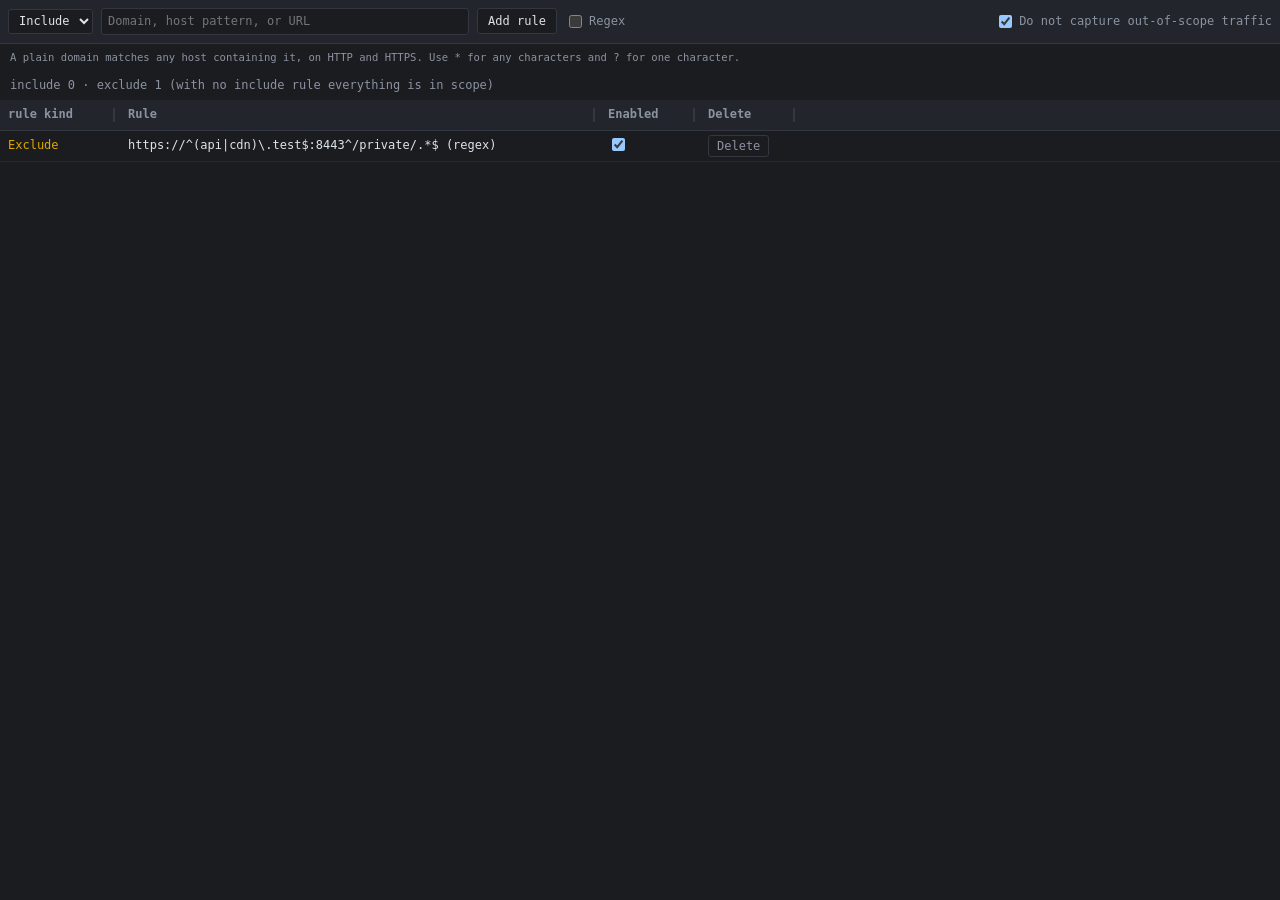
Test: ScopeEditor editing › keeps a rejected draft for correction and retries without changing other fields
Double-click the cell "https://^(api|cdn)\\.test$:8443^/private/.*$ (regex)" at (360, 146), box [120,130,600,162]
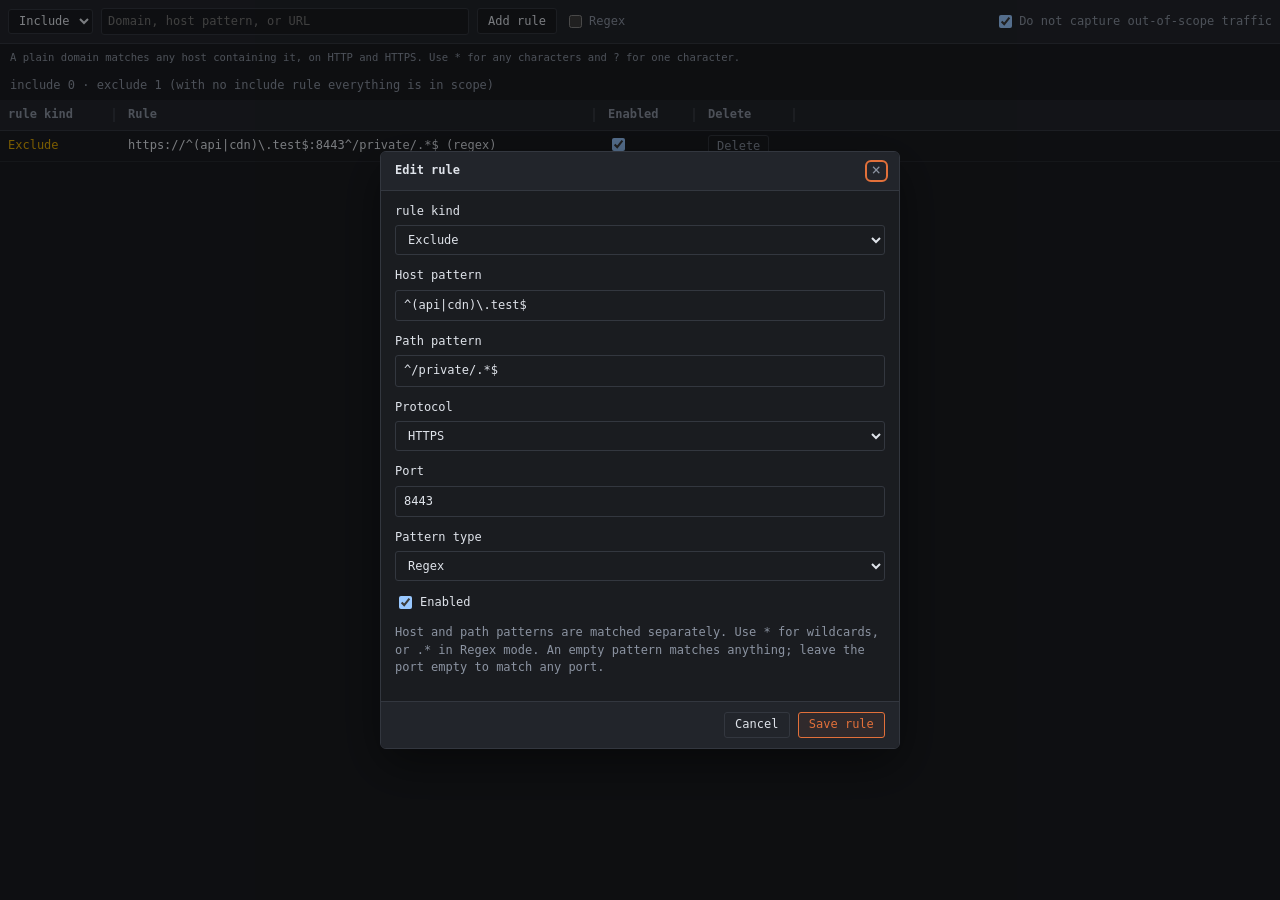
Replace the text in the field labelled "Host pattern" with "(" at (640, 305), box [395,290,885,321]
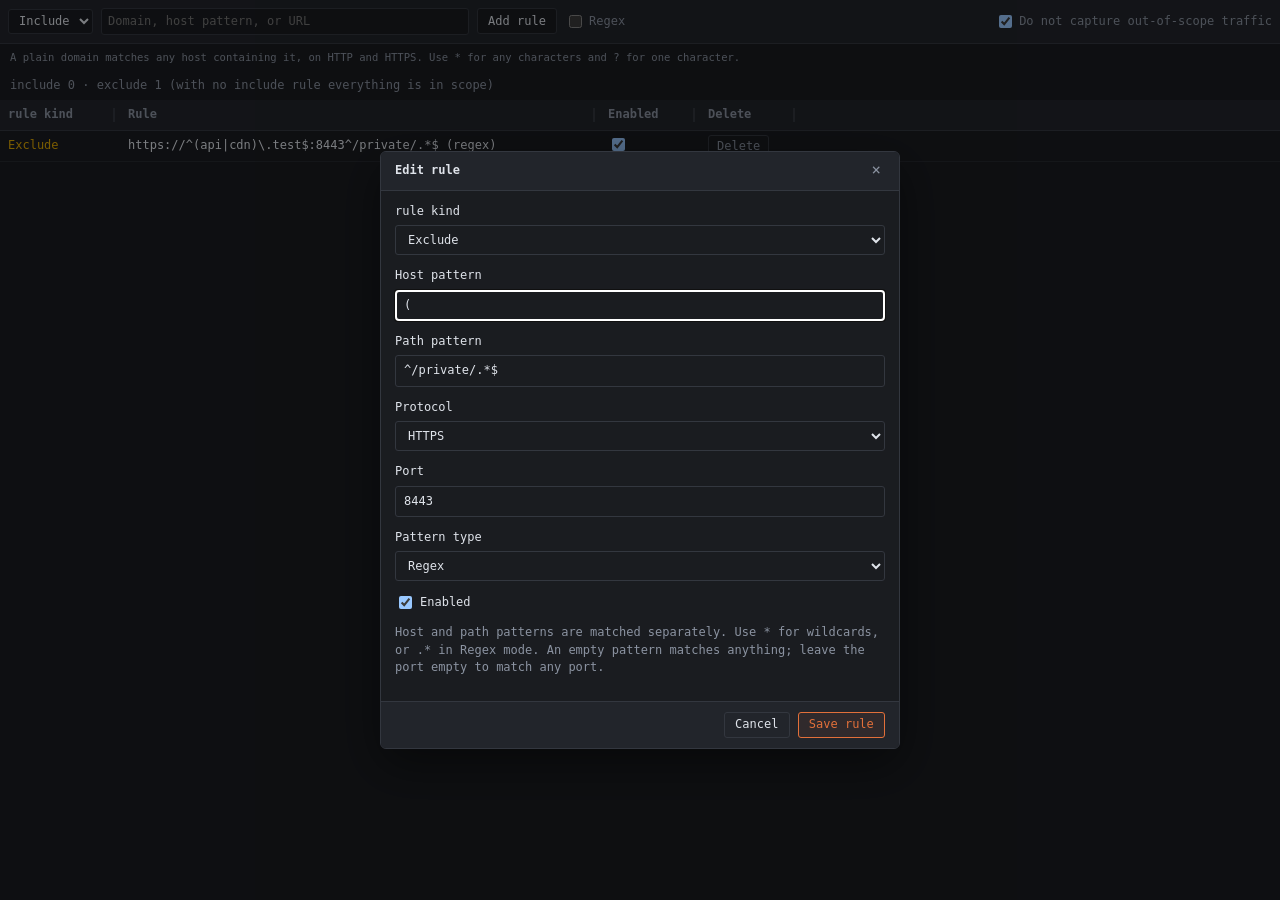
Click the button "Save rule" at (841, 724), box [798,712,885,738]
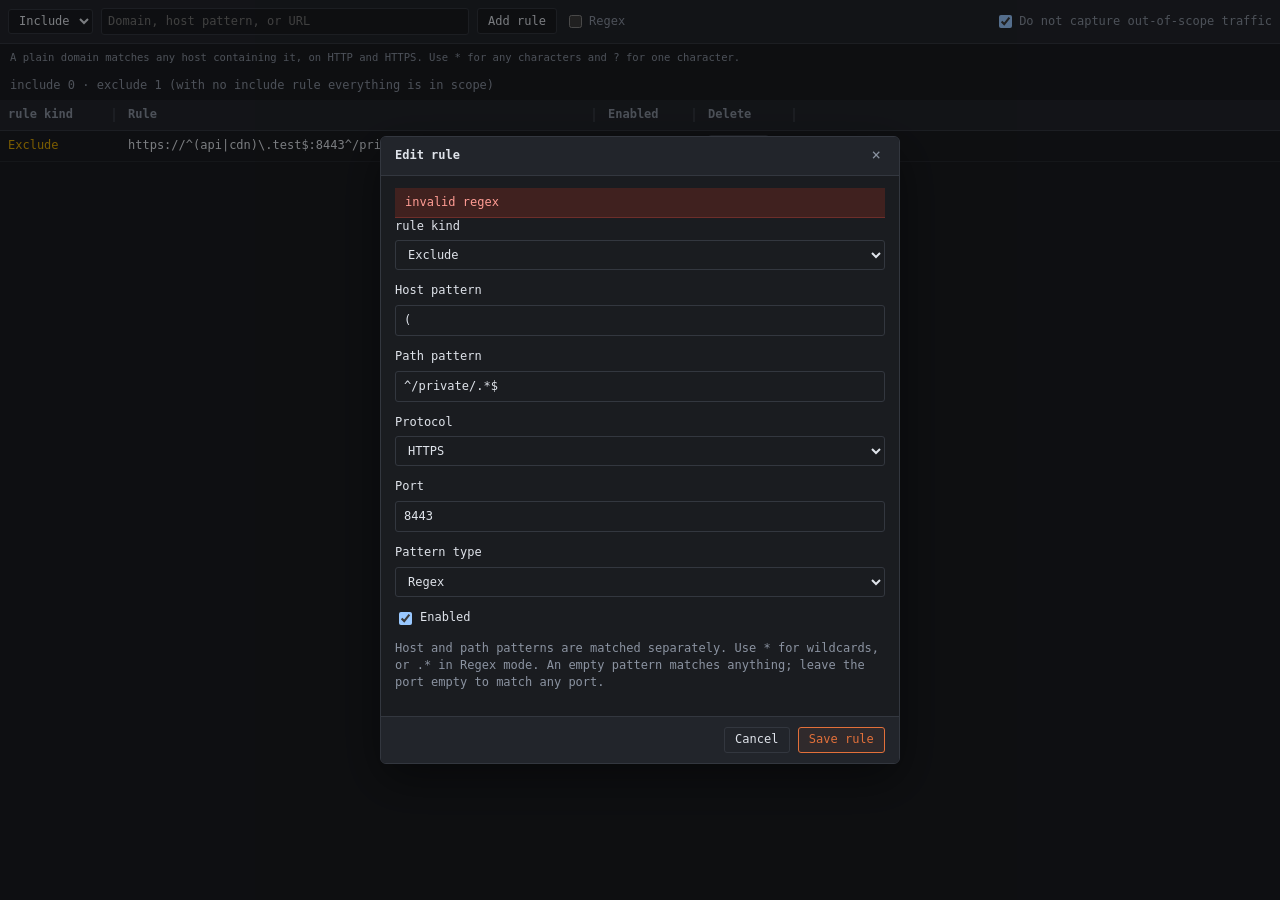
Expected: the message reads "invalid regex", [405,195,499,209]
Replace the text in the field labelled "Host pattern" with "^updated\\.test$" at (640, 320), box [395,305,885,336]
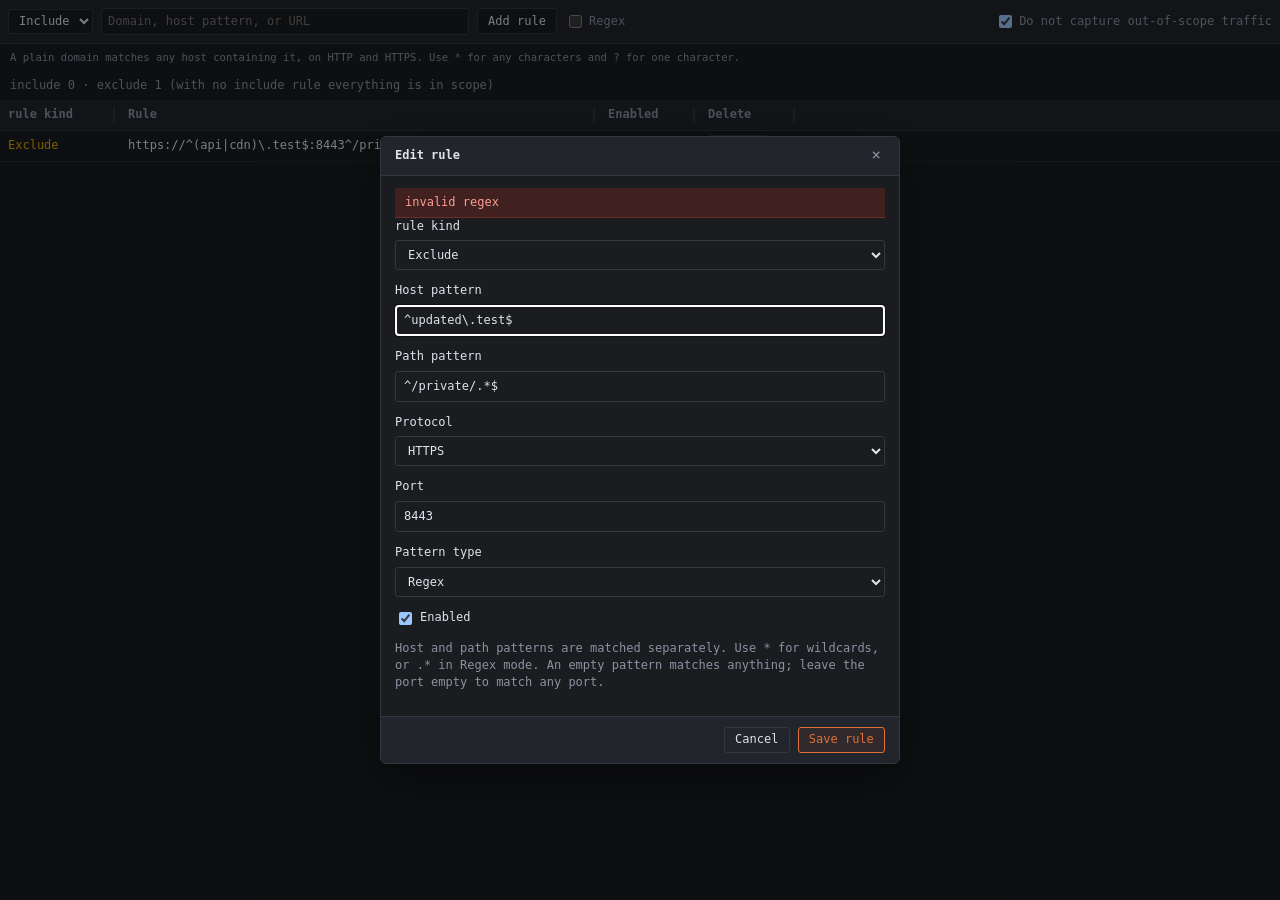
Click the button "Save rule" at (841, 740), box [798,727,885,753]
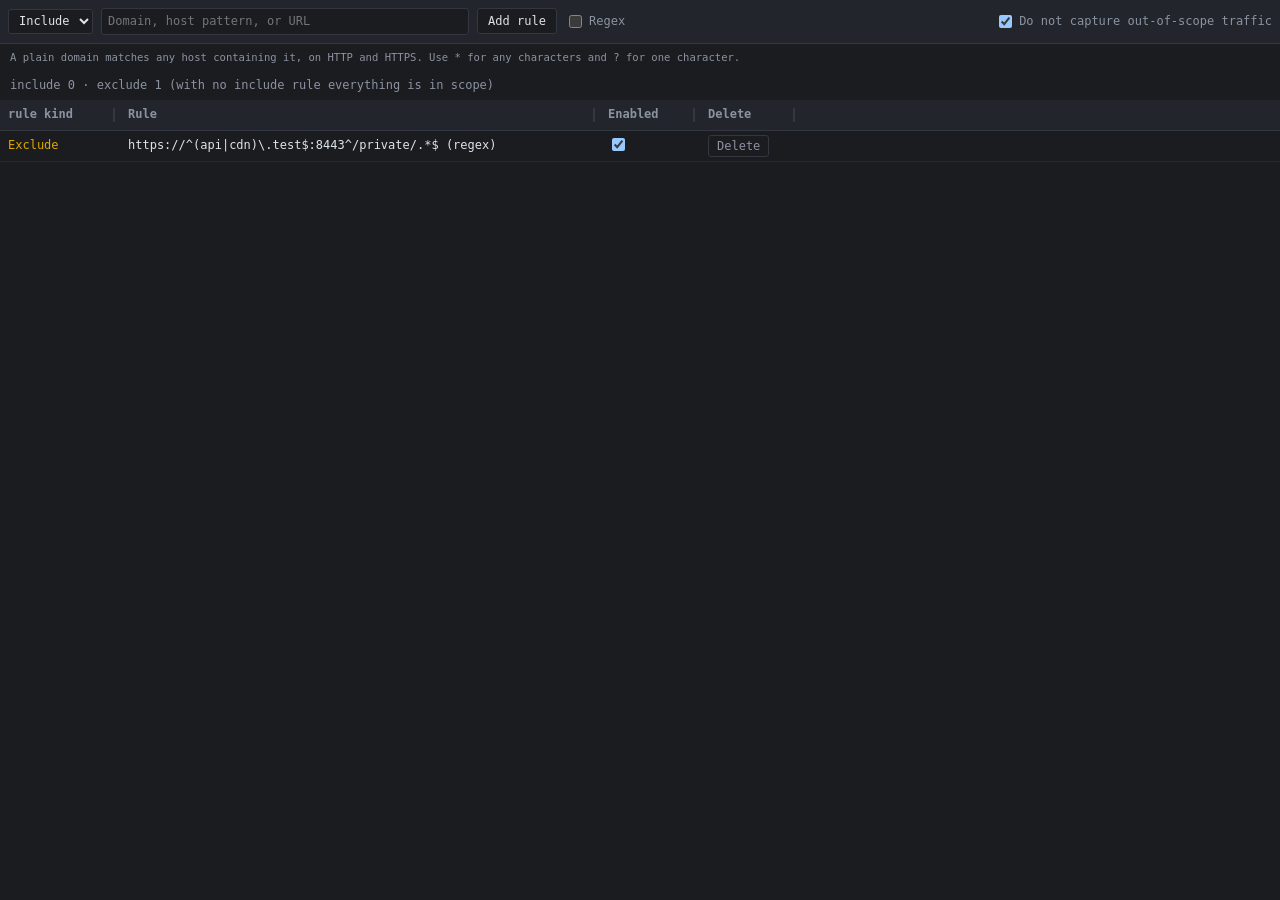
Expected: the dialog is gone
